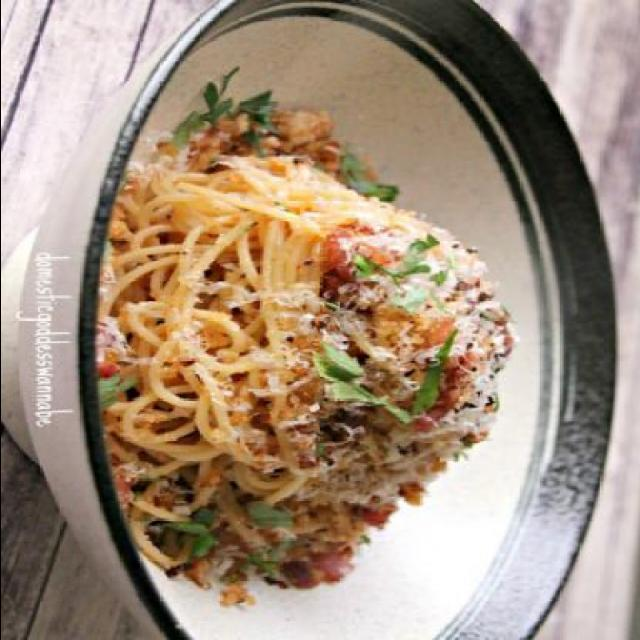Oil pasta: (52, 120, 580, 602)
